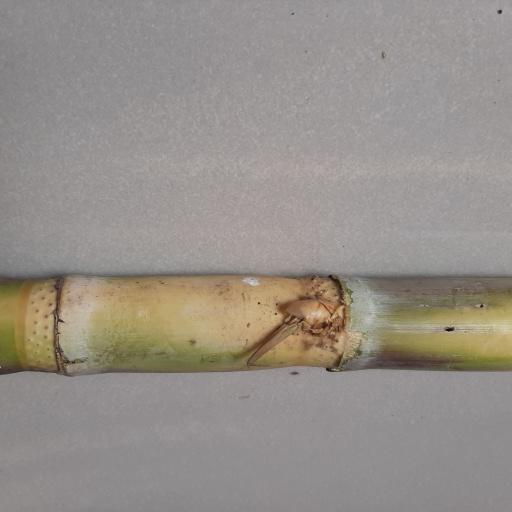Sprouted_Bud: (275, 294, 342, 341)
